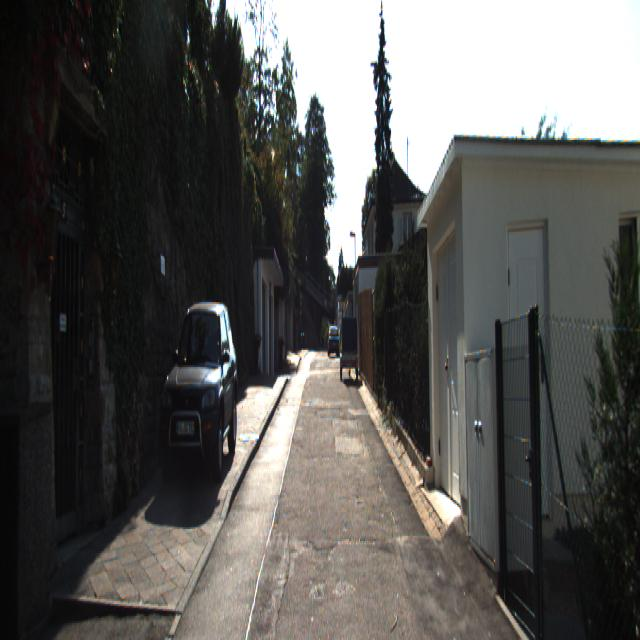Car: (154, 299, 238, 480)
DontCare: (326, 322, 339, 354)
Misc: (340, 313, 359, 381)
